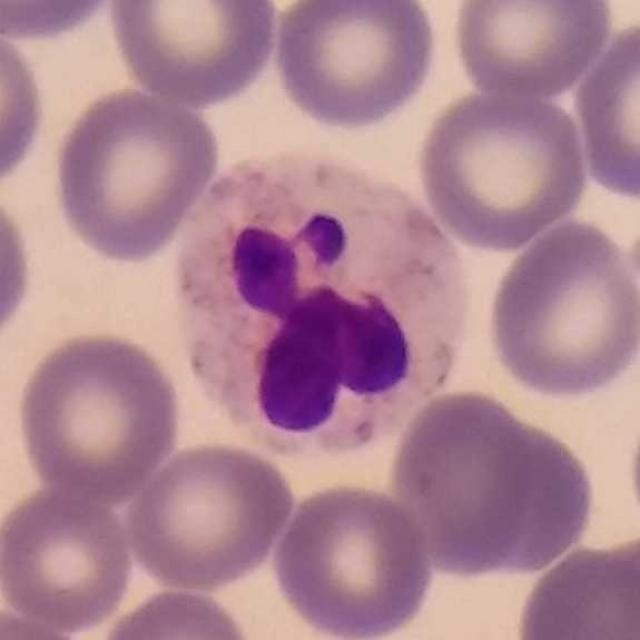Neutrophil: (152, 140, 471, 471)
RBC: (386, 384, 552, 578), (49, 84, 223, 264), (12, 326, 186, 503), (479, 215, 640, 403), (412, 87, 591, 251), (267, 477, 439, 640), (123, 438, 297, 594), (454, 413, 599, 580), (268, 0, 443, 134), (0, 483, 137, 634), (104, 0, 284, 107), (447, 0, 616, 102), (570, 14, 640, 205), (512, 537, 640, 640), (96, 583, 256, 640), (0, 16, 50, 194), (0, 180, 39, 358), (579, 527, 639, 639), (0, 0, 122, 43), (0, 604, 90, 640)
